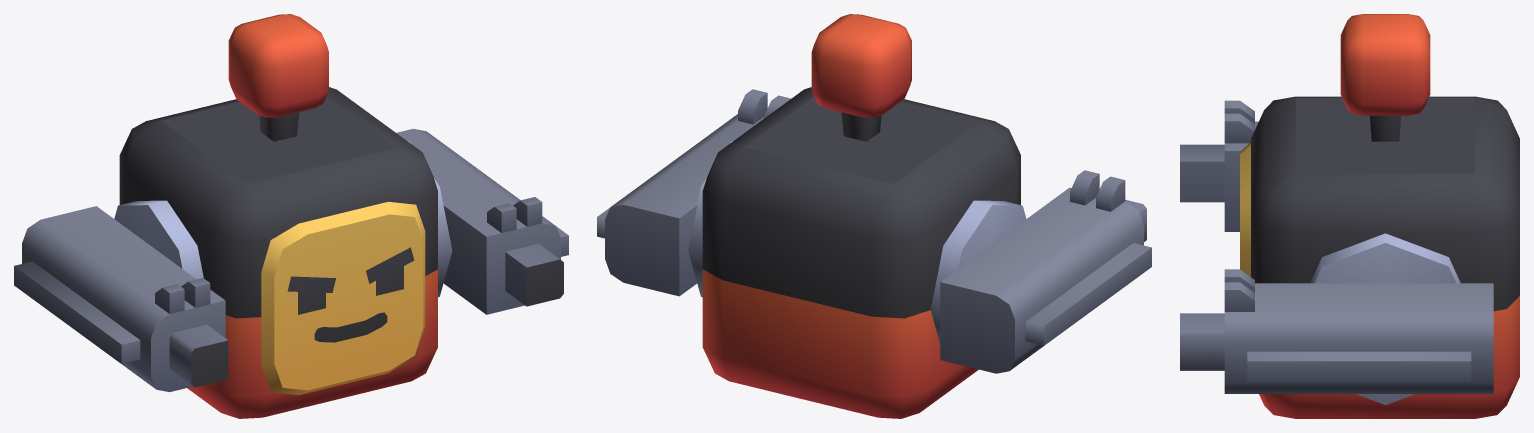
File: drone.glb
3 views of the same model, side by side, from view 1: azimuth 30°, elevation 25°; view 2: azimuth 150°, elevation 25°; view 3: azimuth 270°, elevation 25° (orthographic). The views are drawn at different scales.
Visible parts, largest first — view 1: torso, blaster-right, blaster-left, antenna; view 2: torso, blaster-right, blaster-left, antenna; view 3: torso, blaster-left, antenna, blaster-right.
Part boxes in pixels (bbox=[...]): torso: bbox=[119, 87, 437, 418]; blaster-right: bbox=[14, 200, 228, 392]; blaster-left: bbox=[396, 128, 568, 314]; antenna: bbox=[228, 14, 328, 141]; torso: bbox=[702, 87, 1020, 418]; blaster-right: bbox=[930, 170, 1151, 373]; blaster-left: bbox=[597, 89, 790, 297]; antenna: bbox=[811, 14, 911, 141]; torso: bbox=[1240, 96, 1519, 418]; blaster-left: bbox=[1180, 233, 1493, 405]; antenna: bbox=[1340, 14, 1430, 141]; blaster-right: bbox=[1180, 100, 1258, 231].
Bounding box in the file's own units: 1.2 × 0.875 × 0.7586.
1 material, 1 textured.
